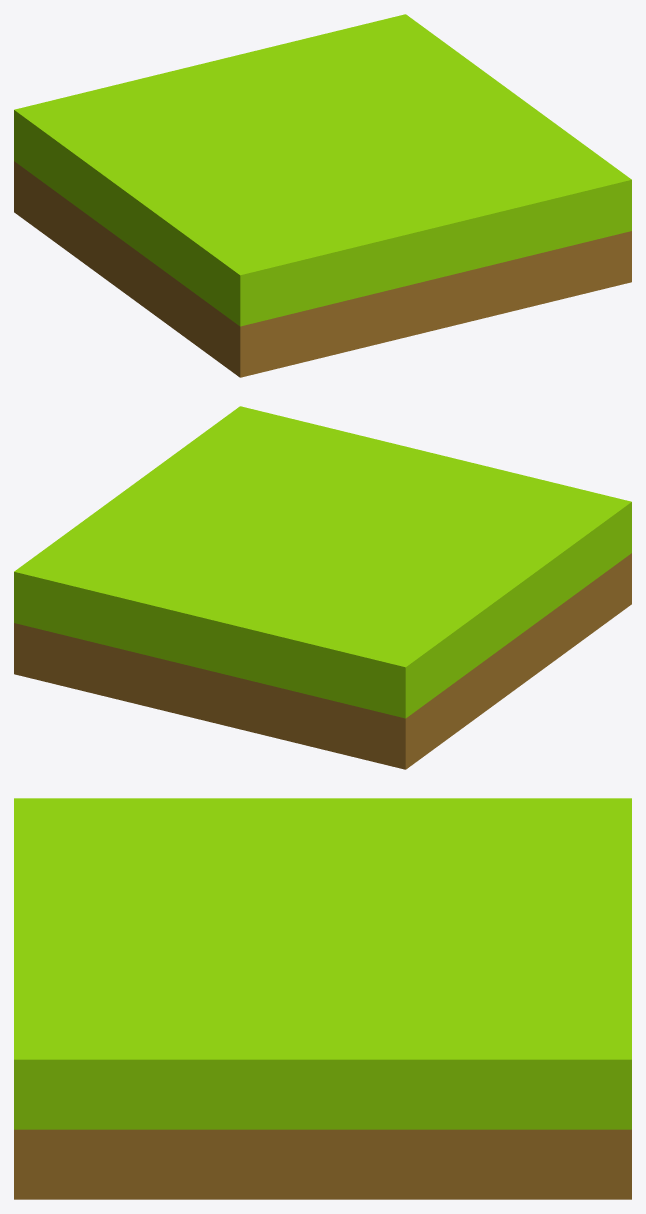
File: 2025-11-25-Boswell-FlatGrass-v001.fbx
The picture shows the model from 3 angles, top to bottom: view 1: azimuth 30°, elevation 25°; view 2: azimuth 150°, elevation 25°; view 3: azimuth 270°, elevation 25°; orthographic projection. The views are drawn at different scales.
Visible parts, largest first — view 1: Cube; view 2: Cube; view 3: Cube.
Part boxes in pixels (x1=…): Cube: x1=14, y1=14, x2=631, y2=377; Cube: x1=14, y1=406, x2=631, y2=769; Cube: x1=14, y1=798, x2=631, y2=1199.
Size of the model in its own units: 100 by 25 by 100.
